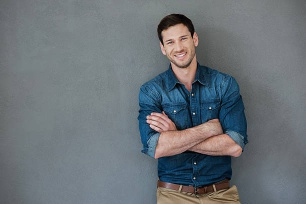male: (155, 16, 204, 69)
